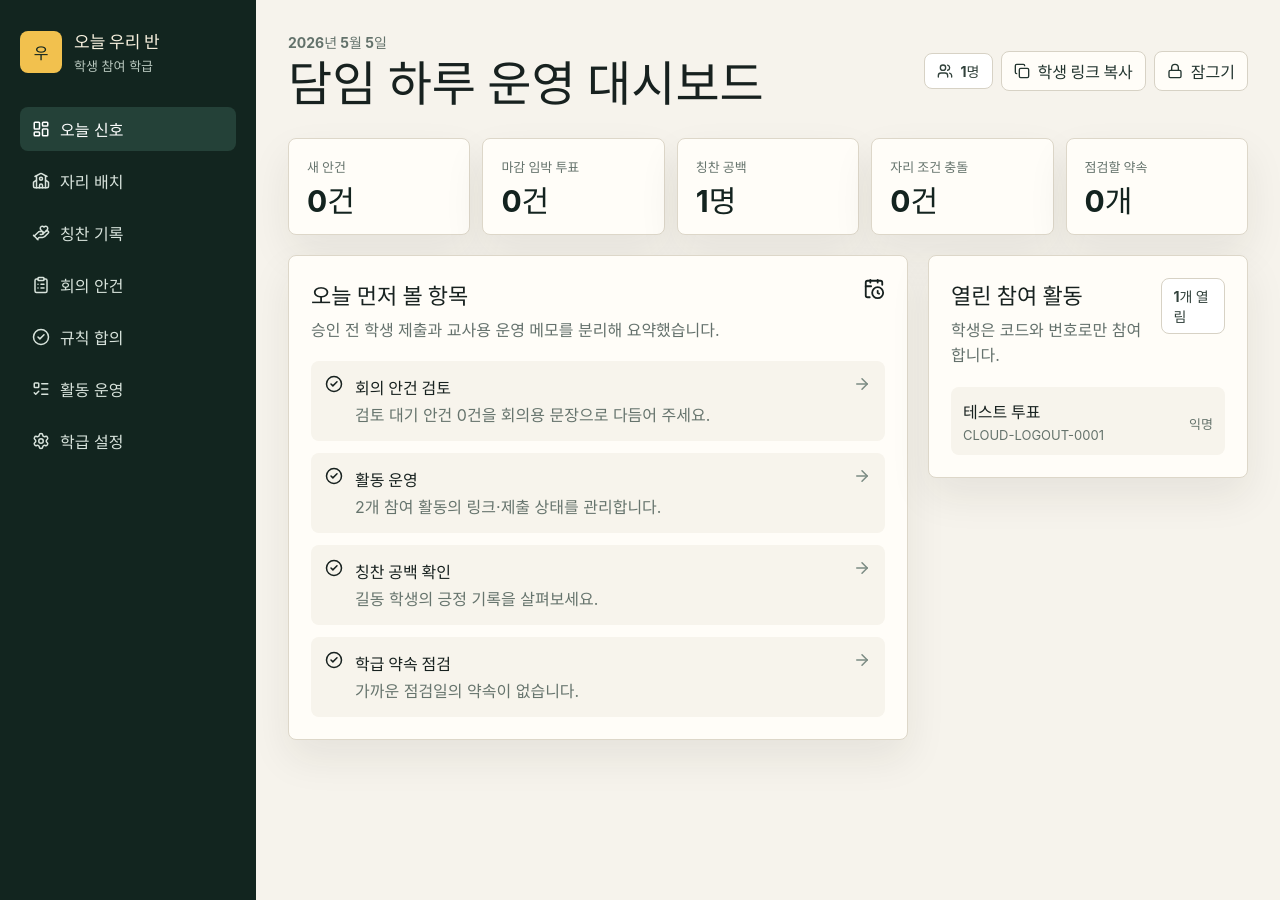
it: homeroom app workflows › logs out teacher session and returns to login form
The width and height of the screenshot is (1280, 900).
Step 1. Click the button "활동 운영" → point(128, 389), box [20,367,236,411]
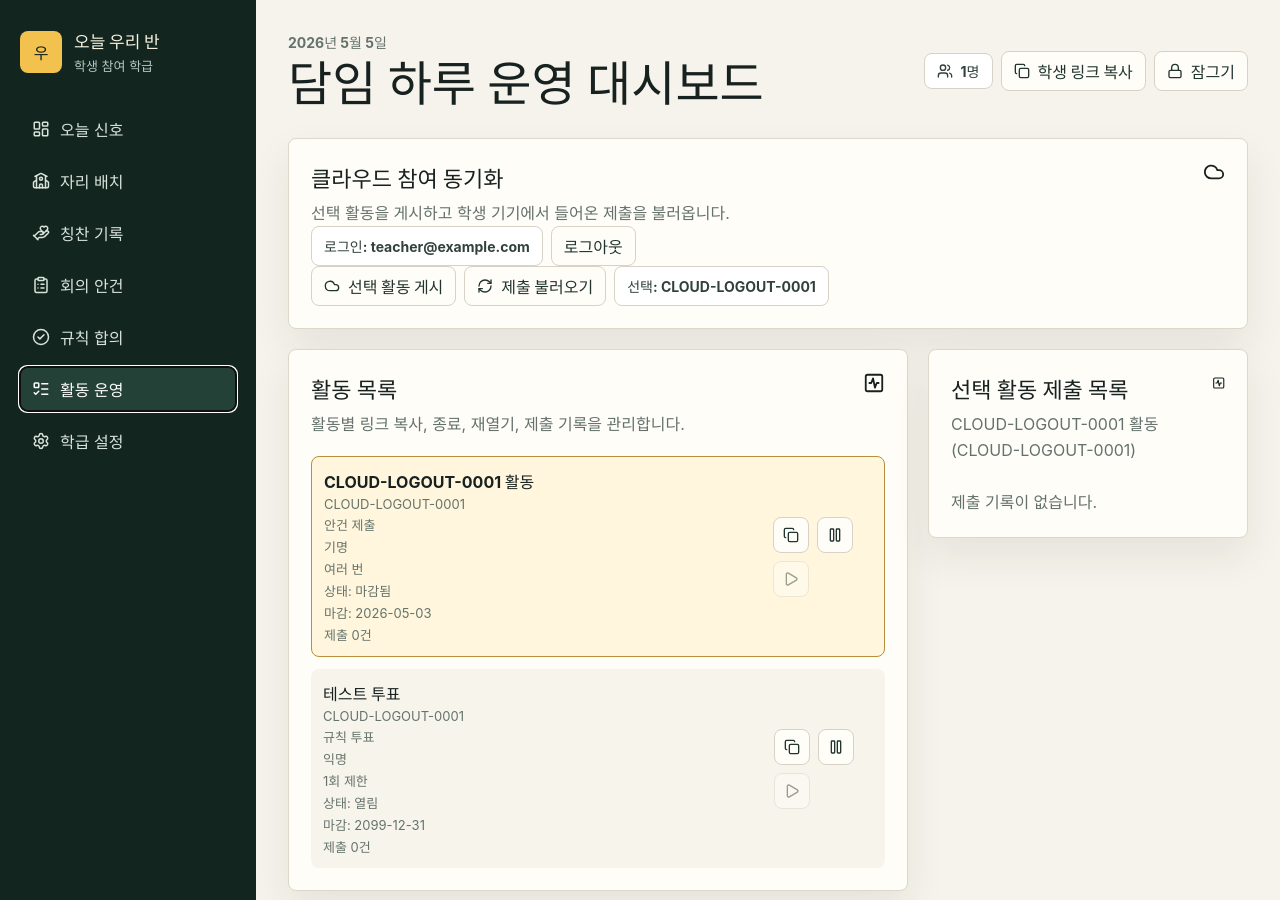
Expected: the button "로그아웃" is shown
Step 2. Click the button "로그아웃" → point(593, 246), box [551,226,636,266]
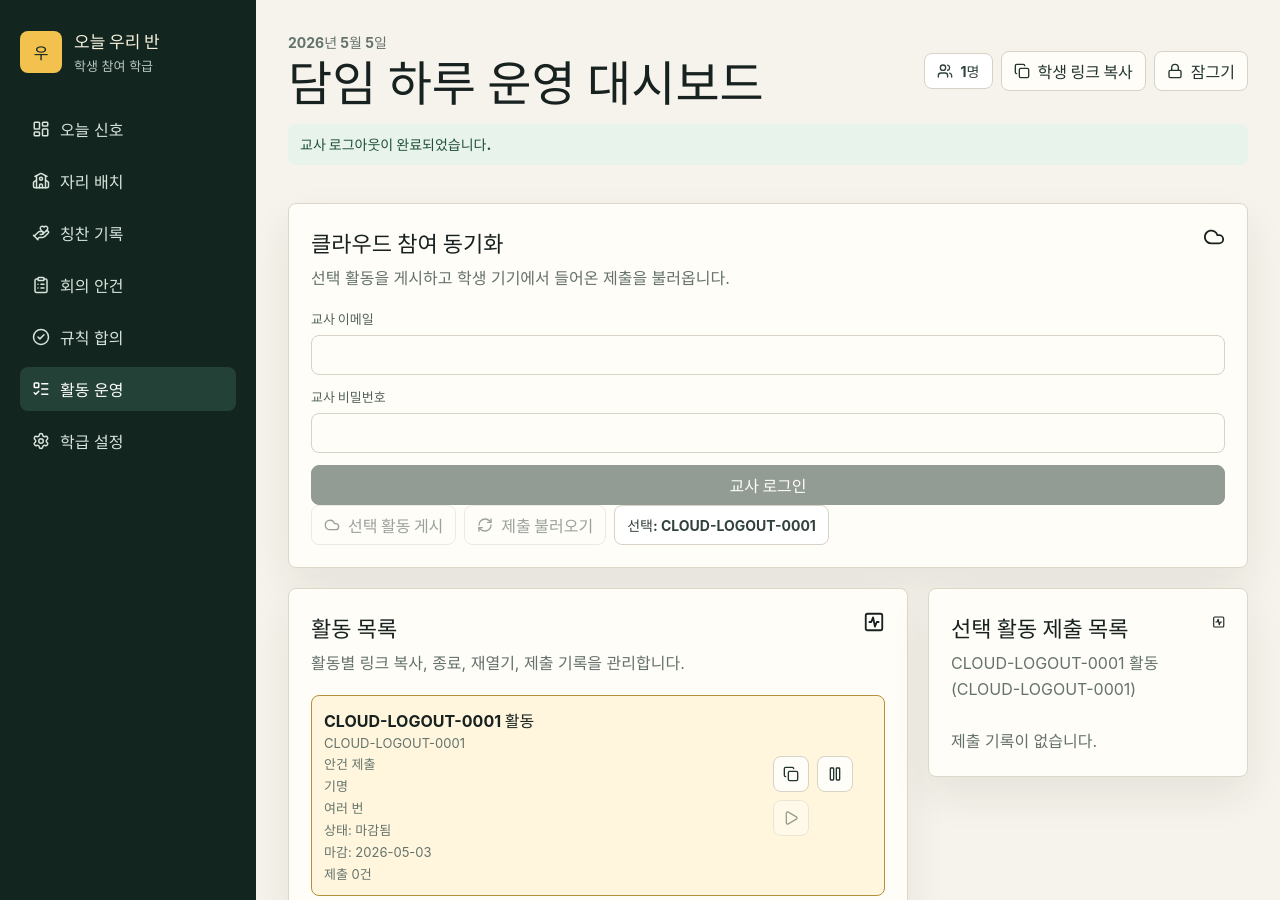
Expected: the button "교사 로그인" is shown, [311,465,1225,505]
Expected: the field labelled "교사 이메일" is shown, [311,335,1225,375]
Expected: the button "선택 활동 게시" is disabled, [311,505,456,545]
